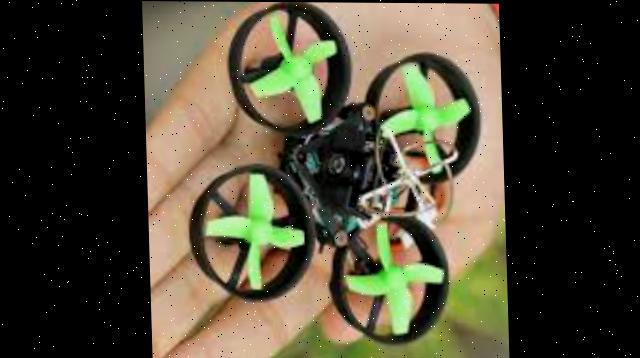drone: (182, 1, 483, 357)
